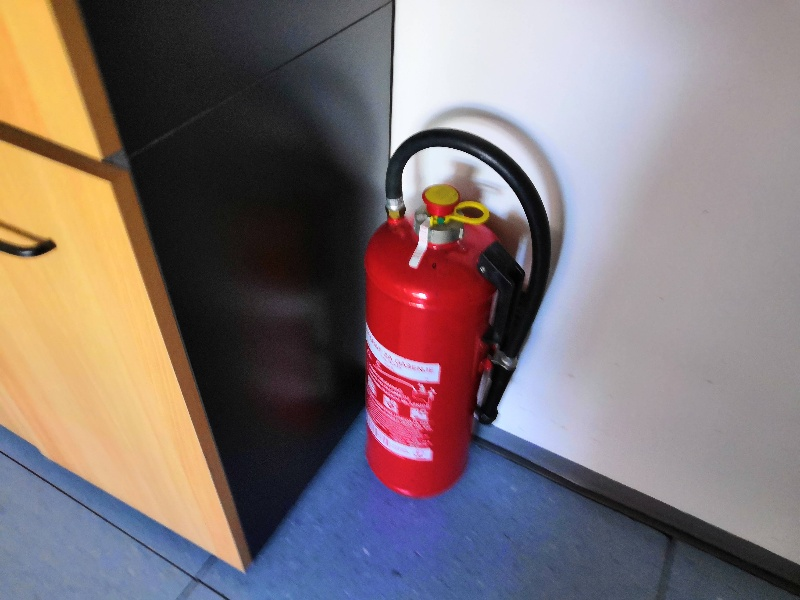vataparat: (363, 126, 550, 498)
